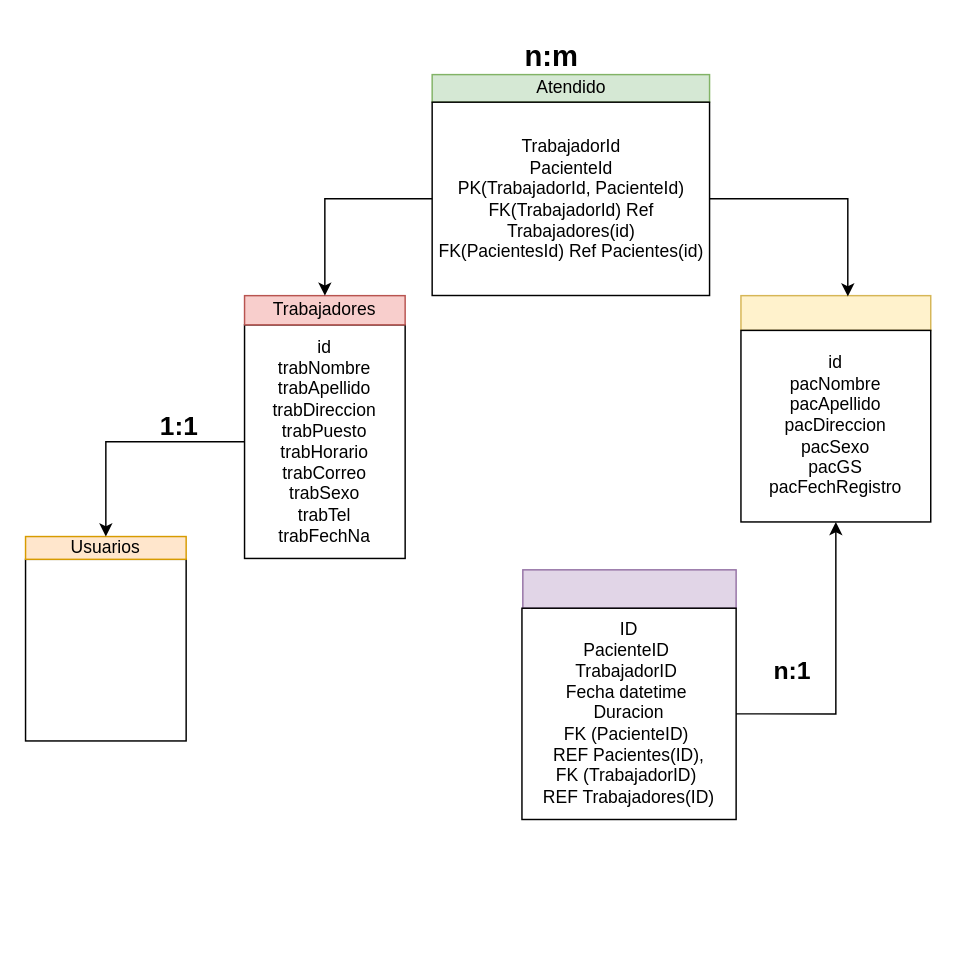
Some shapes in this 956 by 977 pixel diagram are drawn without their labels. The shapes that lost their labels are listed below. From the top down, each one's centre as x and y in pixels, then its label:
point (835, 312): Pacientes
point (628, 588): Citas
point (105, 649): id usuNombre usuPwd usuRol usuTrabId FK (usuTrabId) Ref Trabajadores(Id)
